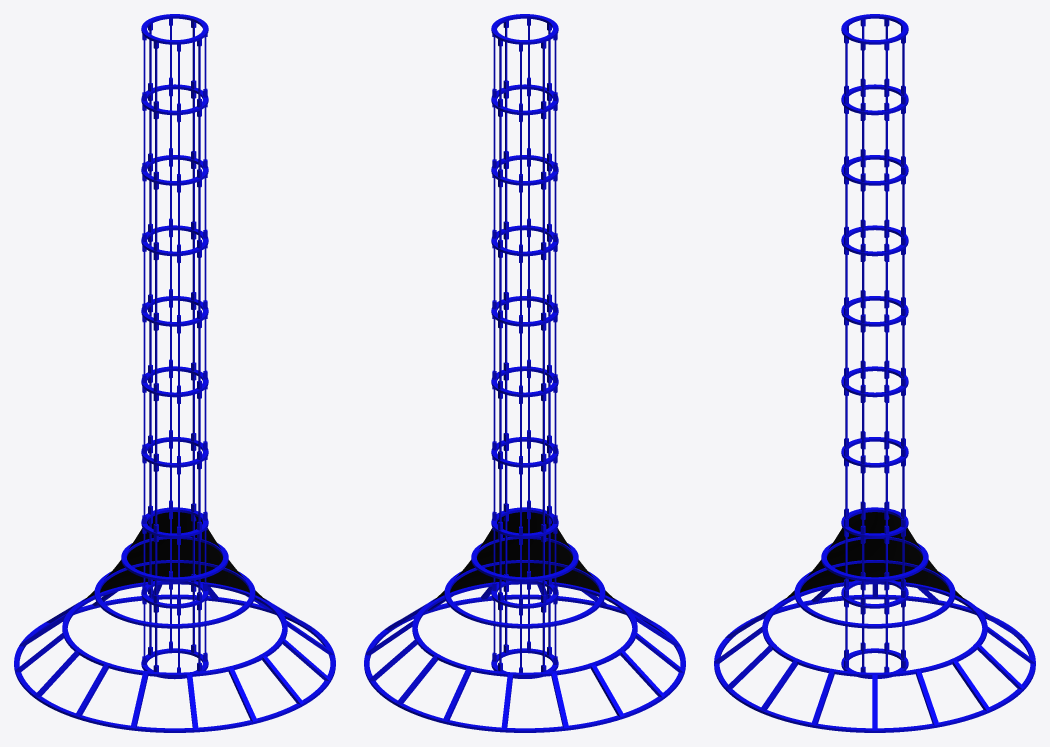
The picture shows the model from 3 angles, left to right: view 1: azimuth 30°, elevation 25°; view 2: azimuth 150°, elevation 25°; view 3: azimuth 270°, elevation 25°; orthographic projection.
Parts seen in each view (by area): view 1: Brep (×14); view 2: Brep (×14); view 3: Brep (×14).
Boxes of the visible parts, <box> form: Brep (×14): <box>14,14,335,732</box>; Brep (×14): <box>364,14,685,732</box>; Brep (×14): <box>714,14,1035,732</box>.
Bounding box in the file's own units: 60 × 60 × 131.
